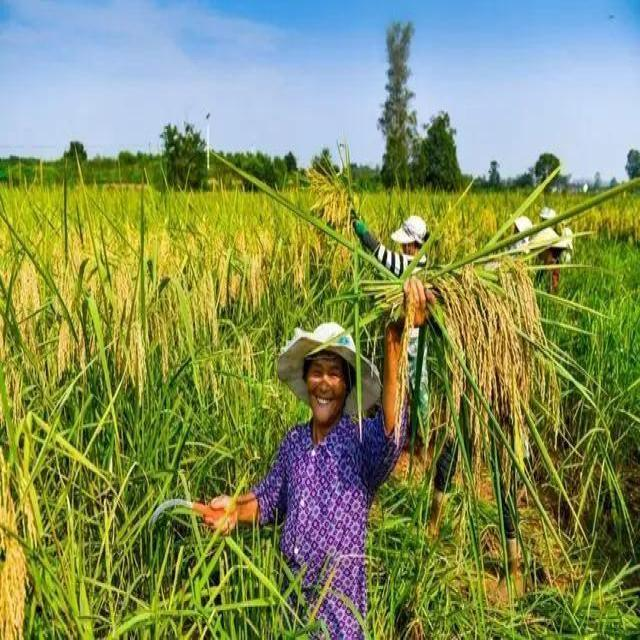Padi: (422, 256, 576, 428)
